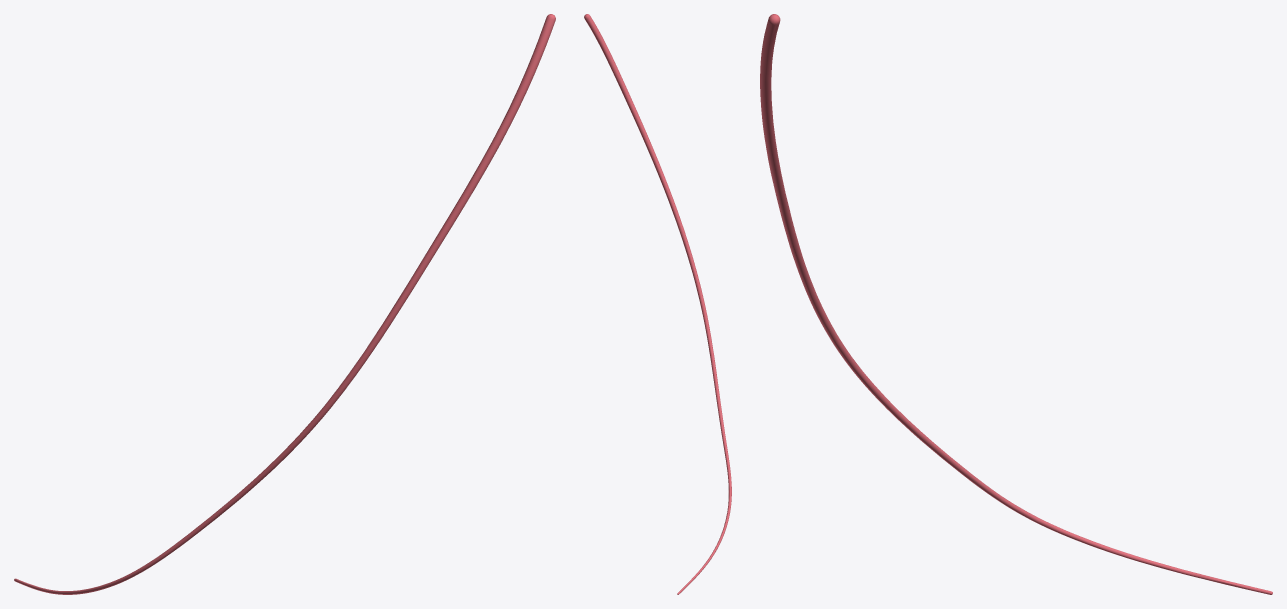
Rendered from fma10692_fj1969.glb.
3 views of the same model, side by side, from view 1: azimuth 30°, elevation 25°; view 2: azimuth 150°, elevation 25°; view 3: azimuth 270°, elevation 25° (orthographic). The views are drawn at different scales.
Parts seen in each view (by area): view 1: FMA10692_FJ1969; view 2: FMA10692_FJ1969; view 3: FMA10692_FJ1969.
Part boxes in pixels (x1,y1,x2,y2): FMA10692_FJ1969: (14,14,555,594); FMA10692_FJ1969: (584,14,731,594); FMA10692_FJ1969: (760,14,1272,594).
Bounding box in the file's own units: 0.1015 × 0.1783 × 0.1059.
